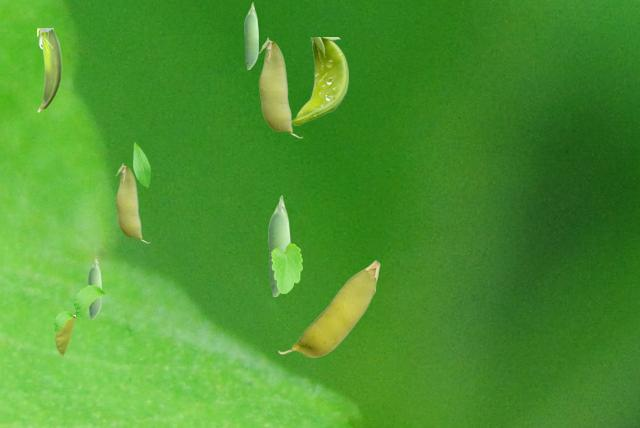pea: (278, 260, 379, 356), (292, 37, 347, 124), (258, 37, 302, 137), (115, 163, 149, 242), (268, 195, 289, 295), (37, 28, 62, 111), (244, 2, 257, 68), (55, 315, 74, 355), (88, 256, 100, 318)
